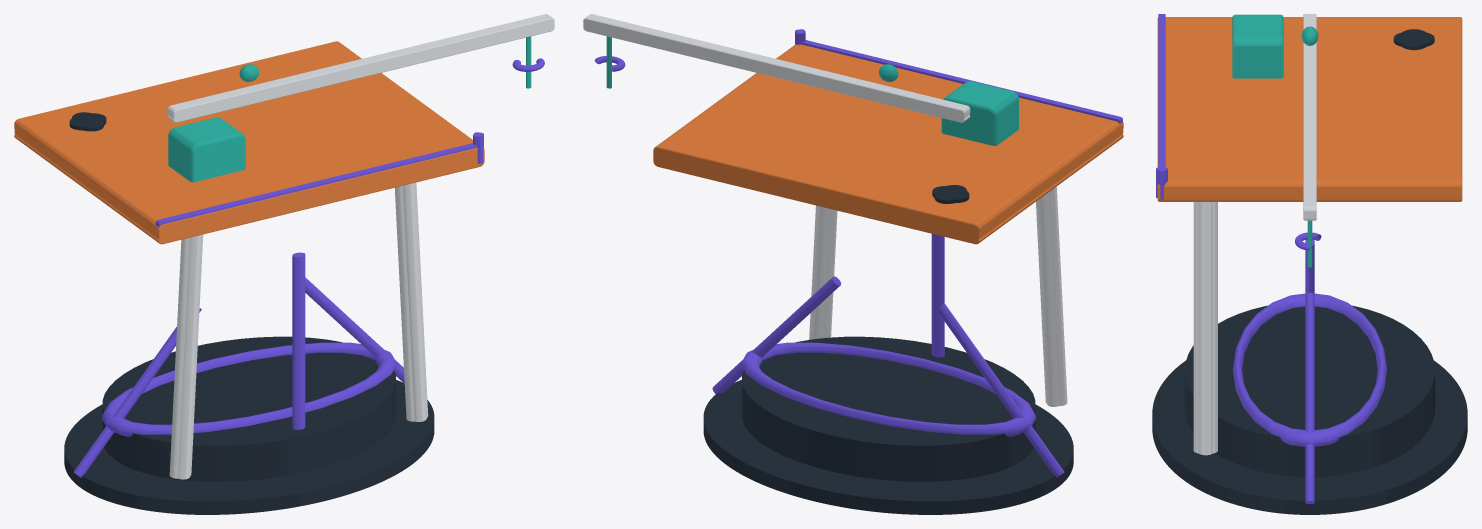
The model's file is 0445_机械图鉴_等臂机械天平.glb.
3 views of the same model, side by side, from view 1: azimuth 30°, elevation 25°; view 2: azimuth 150°, elevation 25°; view 3: azimuth 270°, elevation 25° (orthographic). The views are drawn at different scales.
Parts seen in each view (by area): view 1: card_0445; view 2: card_0445; view 3: card_0445.
Part boxes in pixels (x1,y1,x2,y2): card_0445: (14, 14, 554, 514); card_0445: (583, 14, 1123, 514); card_0445: (1152, 14, 1467, 514).
Size of the model in its own units: 1.27 by 1 by 0.6934.
